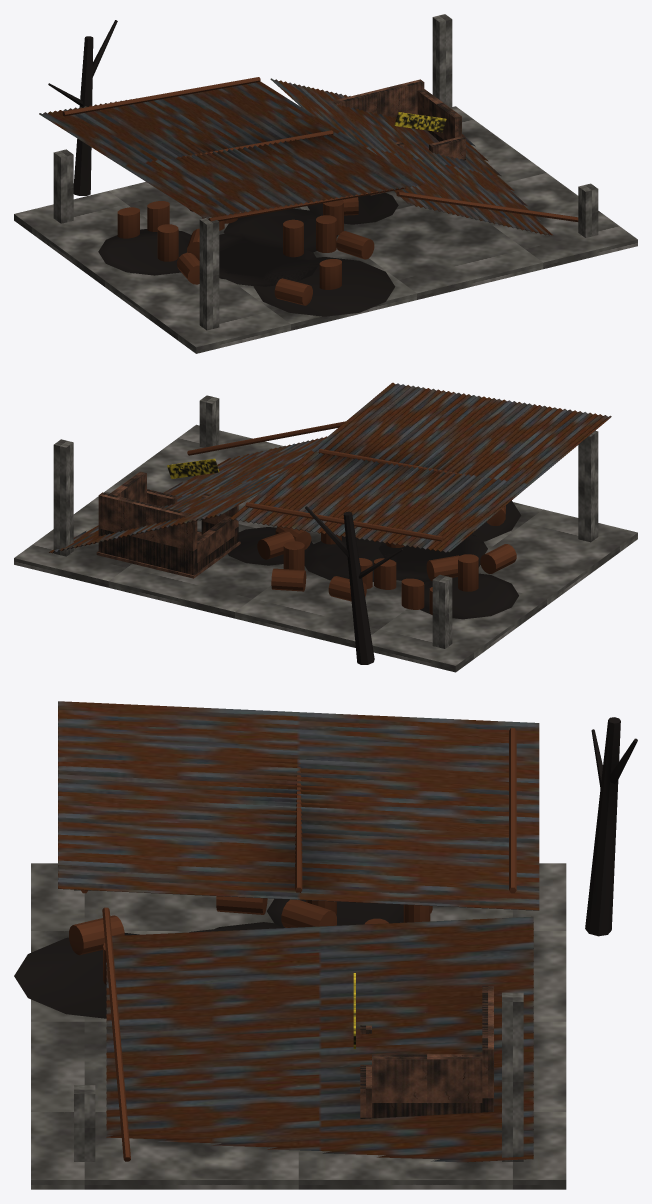
Rendered from az-station.glb.
The picture shows the model from 3 angles, top to bottom: view 1: azimuth 30°, elevation 25°; view 2: azimuth 150°, elevation 25°; view 3: azimuth 270°, elevation 25°; orthographic projection. The views are drawn at different scales.
Visible parts, largest first — view 1: az-station_az_concrete, az-station_az_tin_burnt, az-station_az_char, az-station_az_rust, az-station_az_banco_burnt, az-station_az_sign_fuel; view 2: az-station_az_tin_burnt, az-station_az_concrete, az-station_az_char, az-station_az_rust, az-station_az_banco_burnt, az-station_az_sign_fuel; view 3: az-station_az_tin_burnt, az-station_az_concrete, az-station_az_char, az-station_az_banco_burnt, az-station_az_rust.
Part boxes in pixels (<box>): az-station_az_concrete: <box>14,14,637,353</box>; az-station_az_tin_burnt: <box>39,78,552,235</box>; az-station_az_char: <box>48,20,398,316</box>; az-station_az_rust: <box>62,77,578,305</box>; az-station_az_banco_burnt: <box>332,79,465,195</box>; az-station_az_sign_fuel: <box>394,112,446,132</box>; az-station_az_tin_burnt: <box>49,382,611,553</box>; az-station_az_concrete: <box>14,395,637,672</box>; az-station_az_char: <box>228,500,521,664</box>; az-station_az_rust: <box>187,421,516,614</box>; az-station_az_banco_burnt: <box>96,471,240,578</box>; az-station_az_sign_fuel: <box>167,458,219,478</box>; az-station_az_tin_burnt: <box>58,701,539,1162</box>; az-station_az_concrete: <box>31,863,566,1189</box>; az-station_az_char: <box>14,717,637,1018</box>; az-station_az_banco_burnt: <box>360,985,493,1118</box>; az-station_az_rust: <box>69,728,516,1161</box>.
Size of the model in its own units: 14 by 4.86 by 11.66.
6 materials, 4 textured.
